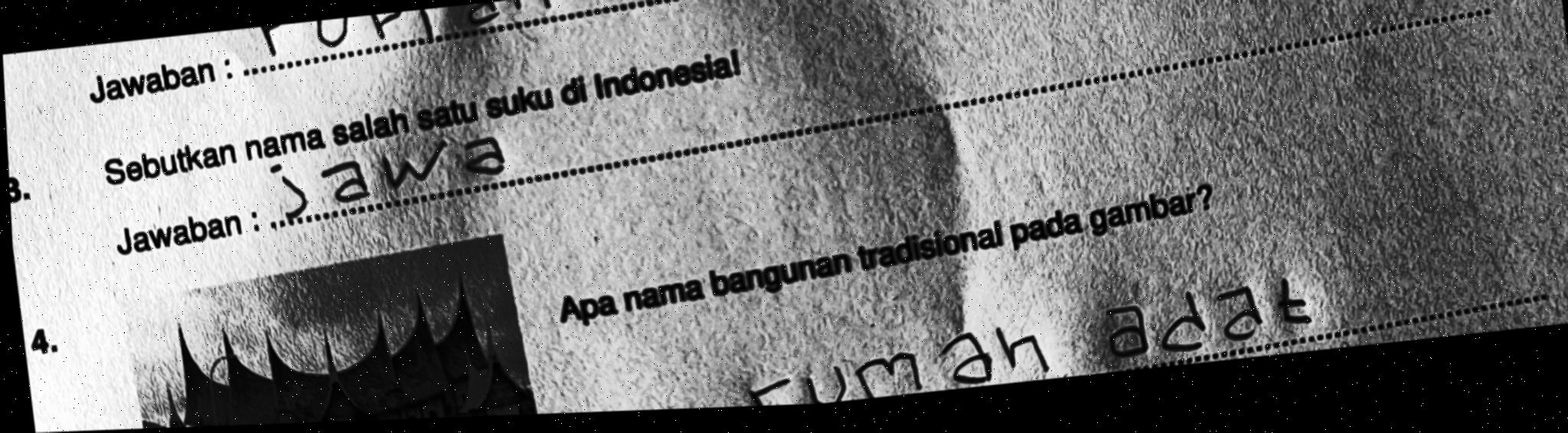jawaban: (260, 121, 512, 226), (1098, 264, 1324, 369)
